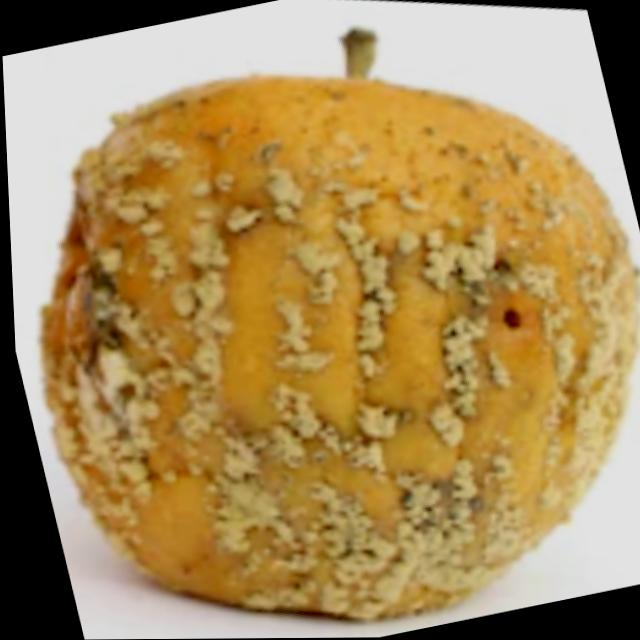organik: (0, 2, 640, 640)
